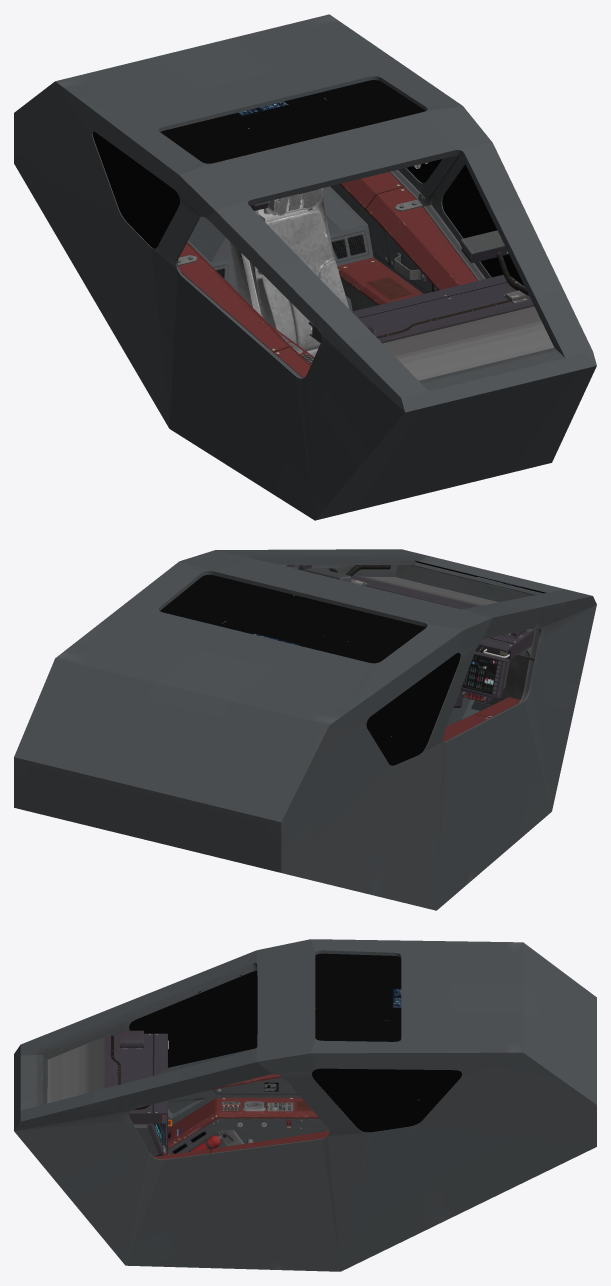
File: shuttle.glb
3 views of the same model, one above another, from view 1: azimuth 30°, elevation 25°; view 2: azimuth 150°, elevation 25°; view 3: azimuth 270°, elevation 25° (orthographic). The views are drawn at different scales.
Parts seen in each view (by area): view 1: Object_3, Object_8, Object_2; view 2: Object_3, Object_8, Object_6, Object_7; view 3: Object_3, Object_8.
Boxes of the visible parts, x1,y1,x2,y2 form: Object_3: (14, 14, 596, 520); Object_8: (93, 80, 524, 286); Object_2: (230, 188, 349, 356); Object_3: (14, 549, 596, 910); Object_8: (160, 560, 546, 765); Object_6: (462, 654, 497, 694); Object_7: (462, 655, 534, 704); Object_3: (14, 939, 596, 1271); Object_8: (129, 953, 461, 1132).
Bounding box in the file's own units: 164 × 149 × 353.
Materials: 7 (6 with a texture image).
